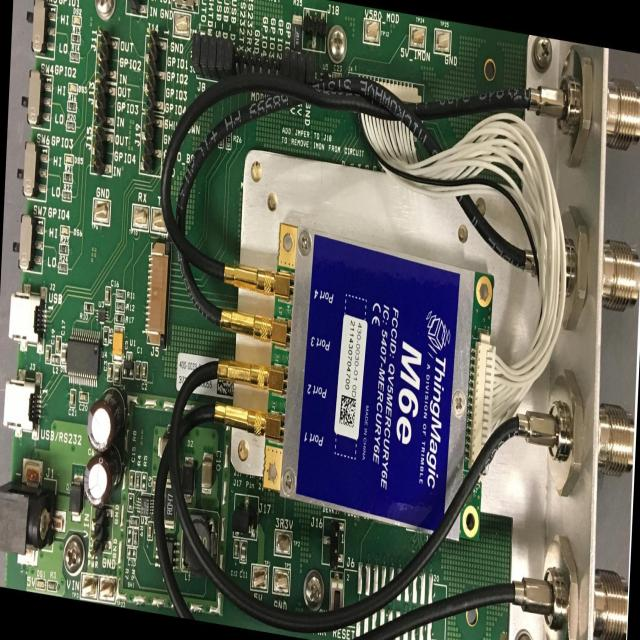Button: (170, 0, 200, 14)
Capacitor Jumper: (201, 451, 213, 494), (157, 436, 178, 460), (113, 362, 121, 385), (146, 520, 154, 541), (240, 540, 247, 564), (69, 388, 76, 409), (61, 342, 67, 366), (55, 335, 62, 355), (45, 344, 52, 364), (104, 285, 111, 305), (78, 391, 88, 404), (141, 360, 147, 381), (135, 360, 141, 380), (151, 475, 157, 495), (107, 363, 113, 382), (129, 470, 135, 489), (233, 538, 239, 557), (333, 71, 342, 78)
Connector: (538, 360, 636, 510), (544, 194, 640, 344), (552, 40, 640, 185), (530, 527, 631, 639), (0, 451, 68, 571), (465, 327, 497, 475), (220, 301, 290, 348), (217, 352, 288, 398), (223, 258, 294, 304), (214, 398, 285, 442), (2, 365, 42, 441), (144, 238, 171, 349), (8, 280, 47, 356), (347, 73, 424, 109), (142, 33, 168, 114), (234, 45, 282, 83), (139, 112, 164, 178), (321, 519, 346, 571), (95, 28, 118, 84), (90, 126, 114, 178), (90, 503, 113, 555), (302, 7, 327, 54), (93, 79, 116, 130), (249, 496, 259, 541)
Diode: (180, 455, 196, 503), (68, 474, 84, 522)
Electrolytic Capacitor: (86, 383, 125, 455), (82, 450, 121, 511), (112, 324, 124, 362)
IC: (285, 225, 473, 542), (66, 326, 102, 388), (137, 494, 154, 518), (122, 350, 135, 380), (95, 308, 109, 324), (323, 71, 330, 86)
Inductor: (181, 507, 219, 577), (50, 354, 60, 366)
Jumper: (232, 492, 250, 538), (190, 32, 203, 78), (199, 33, 212, 79), (215, 36, 228, 82), (224, 36, 236, 82), (208, 34, 220, 80), (125, 0, 150, 18), (304, 52, 315, 86), (296, 52, 306, 83), (288, 52, 298, 82), (280, 50, 290, 78)
Led: (35, 577, 45, 591), (64, 152, 74, 166), (59, 224, 70, 236), (68, 82, 78, 95), (72, 14, 81, 26)
Pads: (342, 558, 448, 640), (141, 471, 147, 491), (127, 526, 133, 546), (126, 547, 136, 559)
Resistor: (164, 478, 176, 529), (291, 15, 304, 53), (102, 325, 110, 345), (127, 492, 134, 513), (70, 32, 81, 45), (69, 50, 80, 63), (115, 300, 125, 314), (218, 128, 225, 148), (225, 130, 232, 150), (84, 301, 94, 314), (129, 515, 139, 528), (47, 579, 57, 592), (66, 119, 76, 132), (59, 242, 69, 255), (58, 262, 68, 275), (115, 312, 124, 326), (63, 171, 73, 183), (62, 190, 72, 202), (135, 471, 141, 490), (132, 528, 138, 547), (67, 101, 77, 112), (116, 288, 125, 300)
Switch: (20, 67, 52, 130), (16, 139, 48, 202), (12, 211, 44, 274), (24, 0, 57, 59), (328, 571, 345, 626)
Test Point: (274, 528, 293, 558), (250, 563, 269, 592), (131, 203, 150, 232), (173, 10, 191, 40), (272, 566, 290, 596), (92, 197, 110, 226), (98, 576, 116, 604), (80, 574, 98, 602), (364, 17, 381, 46), (434, 29, 452, 56), (150, 207, 168, 234), (409, 23, 426, 51)
Transistor: (154, 535, 180, 577)
